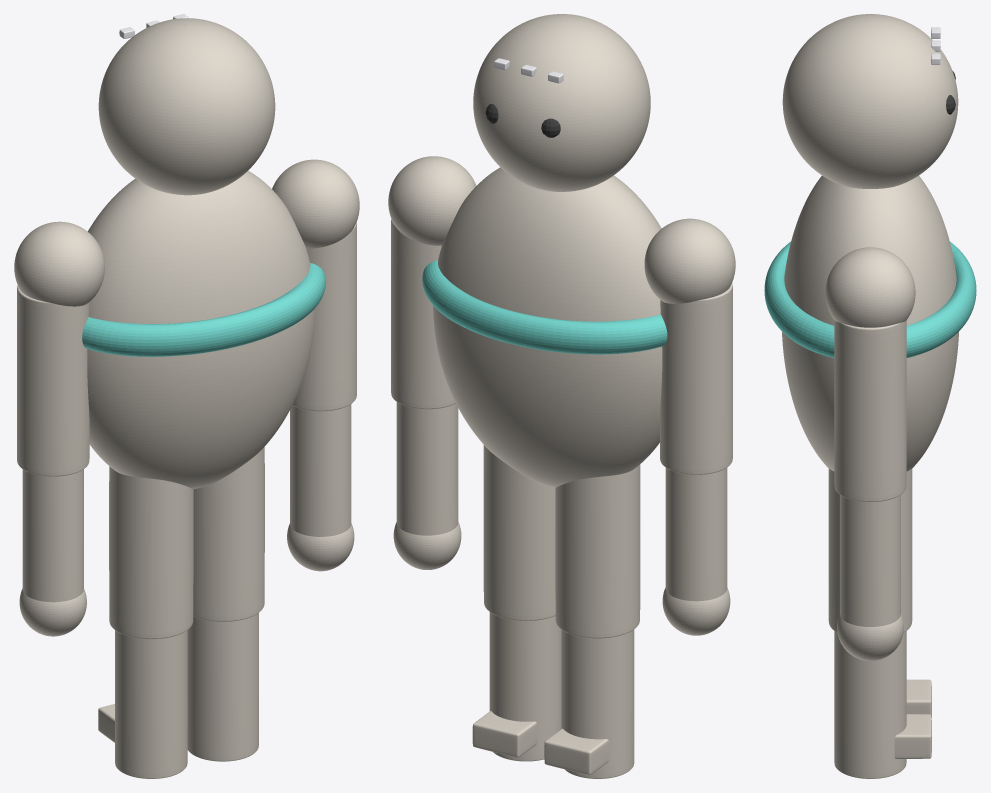
The model's file is Dummy_Runner_Hi.fbx.
3 renders of one model, left to right at view 1: azimuth 30°, elevation 25°; view 2: azimuth 150°, elevation 25°; view 3: azimuth 270°, elevation 25°, orthographic.
Visible parts, largest first — view 1: Torso, Head, UpperLeg_L, UpperArm_L, UpperLeg_R, LowerLeg_L, LowerLeg_R, Band, LowerArm_L, LowerArm_R, UpperArm_R, Shoulder_L (+3 smaller); view 2: Torso, Head, UpperLeg_L, UpperArm_L, UpperLeg_R, LowerLeg_L, Band, LowerLeg_R, LowerArm_L, LowerArm_R, UpperArm_R, Shoulder_L (+5 smaller); view 3: Head, Torso, UpperArm_R, LowerLeg_R, LowerArm_R, Band, Shoulder_R, UpperLeg_R, Hand_R, Foot_R, Foot_L.
Boxes of the visible parts, <box> form: Torso: <box>87,170,315,489</box>; Head: <box>98,18,275,195</box>; UpperLeg_L: <box>109,466,193,639</box>; UpperArm_L: <box>17,285,89,476</box>; UpperLeg_R: <box>193,447,264,621</box>; LowerLeg_L: <box>115,630,187,778</box>; LowerLeg_R: <box>187,613,258,761</box>; Band: <box>82,263,325,356</box>; LowerArm_L: <box>22,469,83,602</box>; LowerArm_R: <box>290,404,351,536</box>; UpperArm_R: <box>292,222,356,411</box>; Shoulder_L: <box>14,221,104,306</box>; Torso: <box>433,167,662,487</box>; Head: <box>473,14,650,191</box>; UpperLeg_L: <box>555,464,640,638</box>; UpperArm_L: <box>660,282,732,474</box>; UpperLeg_R: <box>483,445,555,620</box>; LowerLeg_L: <box>561,629,634,778</box>; Band: <box>422,260,667,354</box>; LowerLeg_R: <box>489,612,561,761</box>; LowerArm_L: <box>665,467,727,601</box>; LowerArm_R: <box>396,402,458,535</box>; UpperArm_R: <box>391,219,455,409</box>; Shoulder_L: <box>644,218,735,303</box>; Head: <box>782,14,958,188</box>; Torso: <box>782,175,958,471</box>; UpperArm_R: <box>834,320,906,501</box>; LowerLeg_R: <box>834,631,906,778</box>; LowerArm_R: <box>840,495,900,626</box>; Band: <box>764,241,976,357</box>; Shoulder_R: <box>825,247,915,327</box>; UpperLeg_R: <box>828,469,912,632</box>; Hand_R: <box>837,614,903,660</box>; Foot_R: <box>894,714,931,758</box>; Foot_L: <box>906,679,931,717</box>.
Bounding box in the file's own units: 0.9946 × 2.08 × 0.5512.
